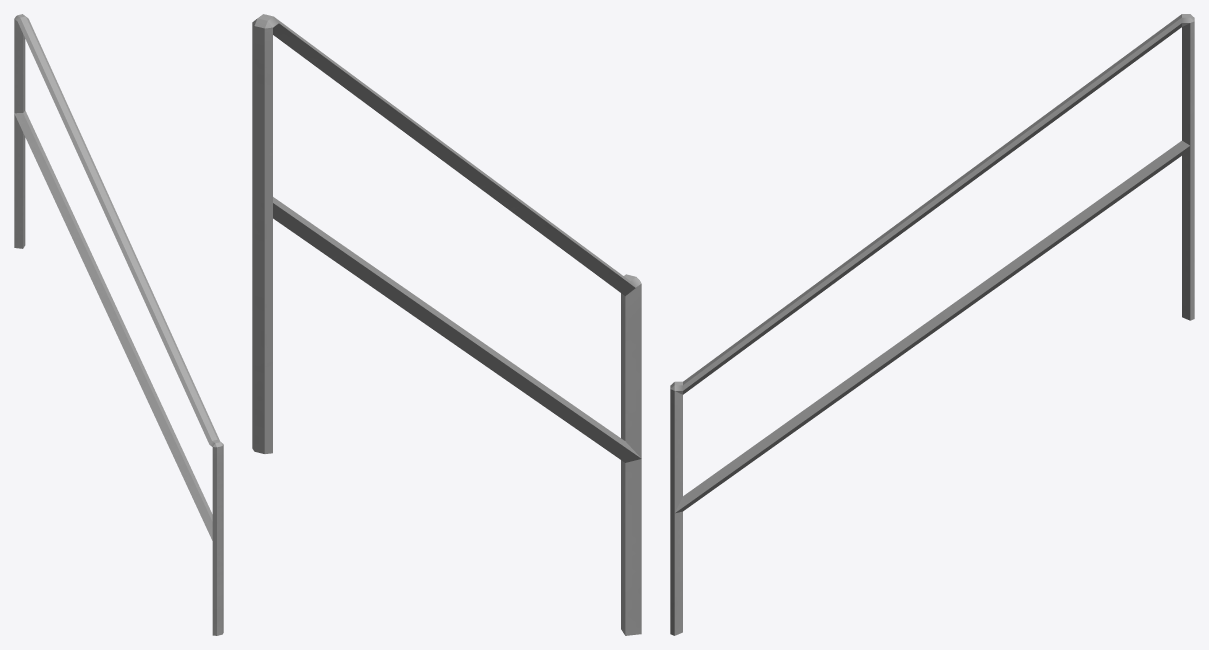
File: RailStairs2x2x1_5R.gltf
3 views of the same model, side by side, from view 1: azimuth 30°, elevation 25°; view 2: azimuth 150°, elevation 25°; view 3: azimuth 270°, elevation 25° (orthographic). The views are drawn at different scales.
Visible parts, largest first — view 1: RailStairs2x2x1_5R21Shape; view 2: RailStairs2x2x1_5R21Shape; view 3: RailStairs2x2x1_5R21Shape.
Part boxes in pixels (x1,y1,x2,y2): RailStairs2x2x1_5R21Shape: (14,14,223,635); RailStairs2x2x1_5R21Shape: (252,14,641,635); RailStairs2x2x1_5R21Shape: (670,14,1194,635).
Bounding box in the file's own units: 0.062 × 2.52 × 1.94.
Materials: 1 (1 with a texture image).
